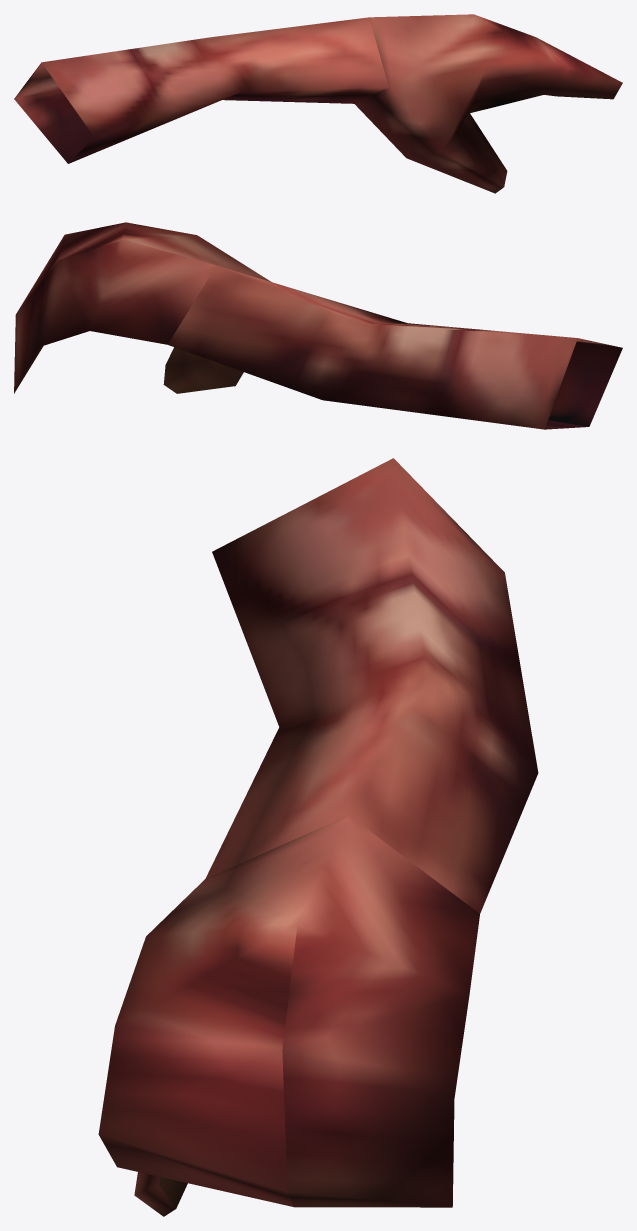
3 renders of one model, top to bottom at view 1: azimuth 30°, elevation 25°; view 2: azimuth 150°, elevation 25°; view 3: azimuth 270°, elevation 25°, orthographic. The views are drawn at different scales.
Parts seen in each view (by area): view 1: Object003; view 2: Object003; view 3: Object003.
Boxes of the visible parts, left/top/right/bottom form: Object003: left=14, top=14, right=622, bottom=193; Object003: left=14, top=222, right=622, bottom=429; Object003: left=98, top=458, right=538, bottom=1216.
Bounding box in the file's own units: 99.59 × 37.35 × 34.86.
